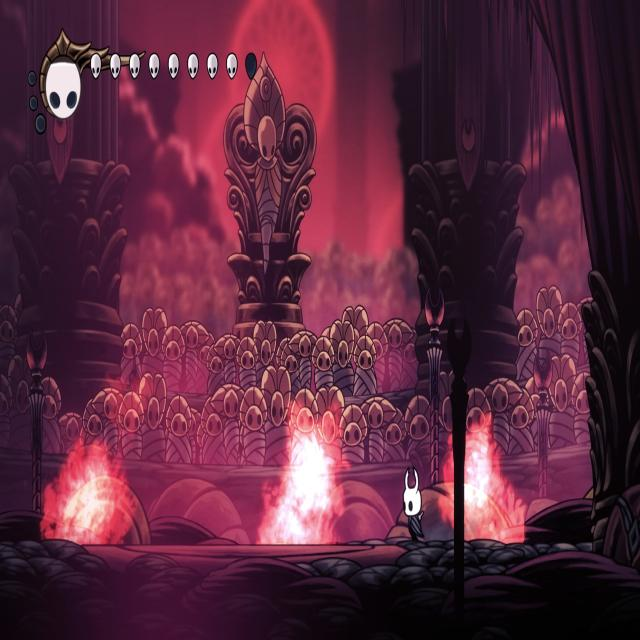Fireball: (438, 410, 528, 546), (259, 412, 342, 553), (42, 429, 136, 546)
Player: (399, 458, 428, 540)
